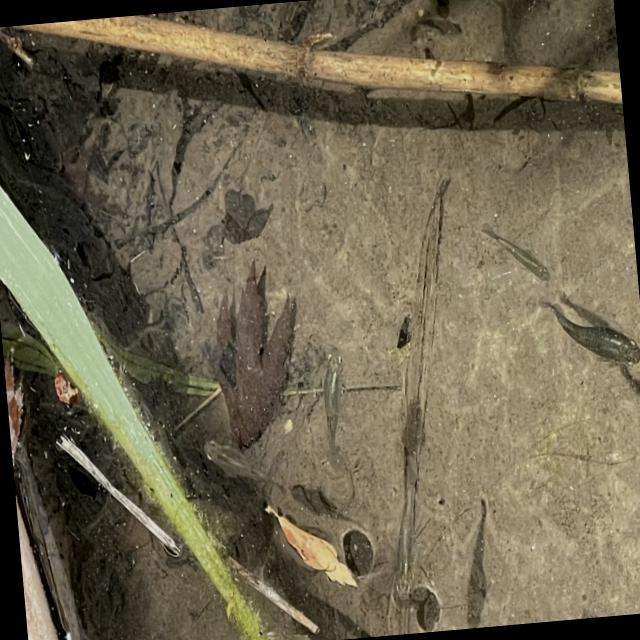Sivrisinek Baligi: (546, 296, 640, 381), (480, 220, 550, 289), (311, 344, 350, 449), (245, 288, 300, 360)
